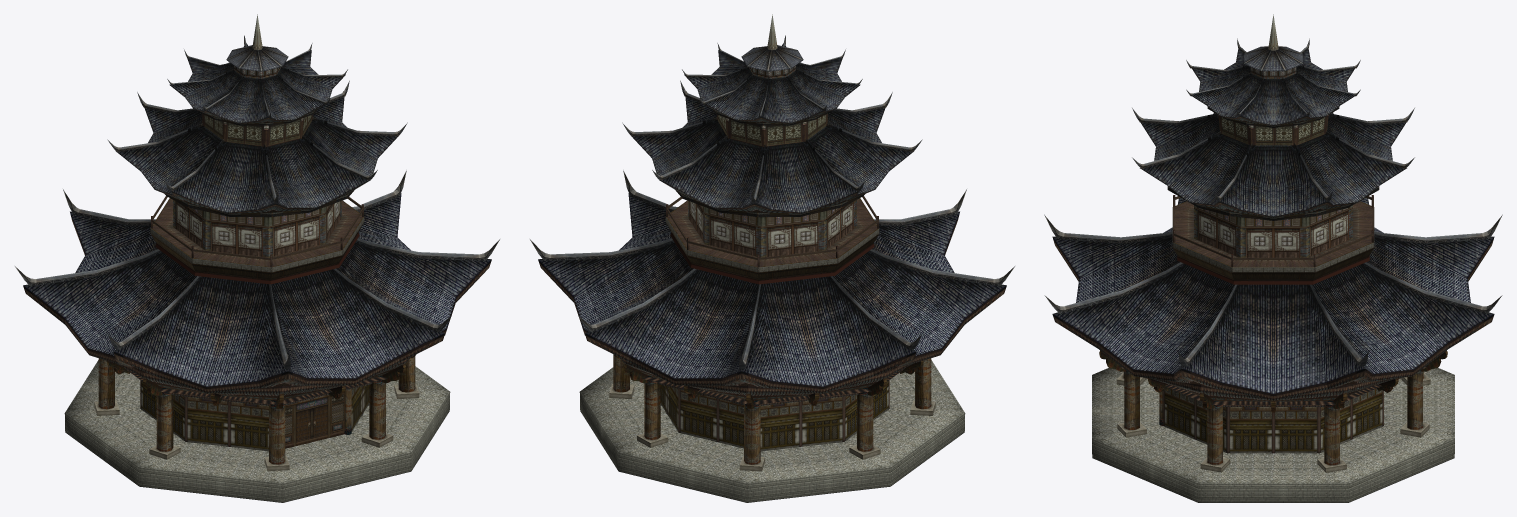
The model's file is ob_4fbuilding.fbx.
The picture shows the model from 3 angles, left to right: view 1: azimuth 30°, elevation 25°; view 2: azimuth 150°, elevation 25°; view 3: azimuth 270°, elevation 25°; orthographic projection.
Visible parts, largest first — view 1: ob_4Fbuilding_01, ob_4Fbuilding_05, ob_4Fbuilding_02, ob_4Fbuilding_04, ob_4Fbuilding_03; view 2: ob_4Fbuilding_01, ob_4Fbuilding_05, ob_4Fbuilding_02, ob_4Fbuilding_04, ob_4Fbuilding_03; view 3: ob_4Fbuilding_01, ob_4Fbuilding_05, ob_4Fbuilding_02, ob_4Fbuilding_04, ob_4Fbuilding_03.
Boxes of the visible parts, <box> form: ob_4Fbuilding_01: <box>23,193,491,409</box>; ob_4Fbuilding_05: <box>15,14,499,368</box>; ob_4Fbuilding_02: <box>64,360,450,502</box>; ob_4Fbuilding_04: <box>150,66,364,284</box>; ob_4Fbuilding_03: <box>94,356,419,471</box>; ob_4Fbuilding_01: <box>538,193,1006,409</box>; ob_4Fbuilding_05: <box>530,14,1014,368</box>; ob_4Fbuilding_02: <box>579,360,965,502</box>; ob_4Fbuilding_04: <box>665,66,879,284</box>; ob_4Fbuilding_03: <box>609,354,935,471</box>; ob_4Fbuilding_01: <box>1052,198,1494,412</box>; ob_4Fbuilding_05: <box>1044,14,1502,366</box>; ob_4Fbuilding_02: <box>1092,368,1454,502</box>; ob_4Fbuilding_04: <box>1172,67,1374,284</box>; ob_4Fbuilding_03: <box>1116,366,1430,472</box>.
Size of the model in its own units: 24.12 by 23.91 by 24.12.
